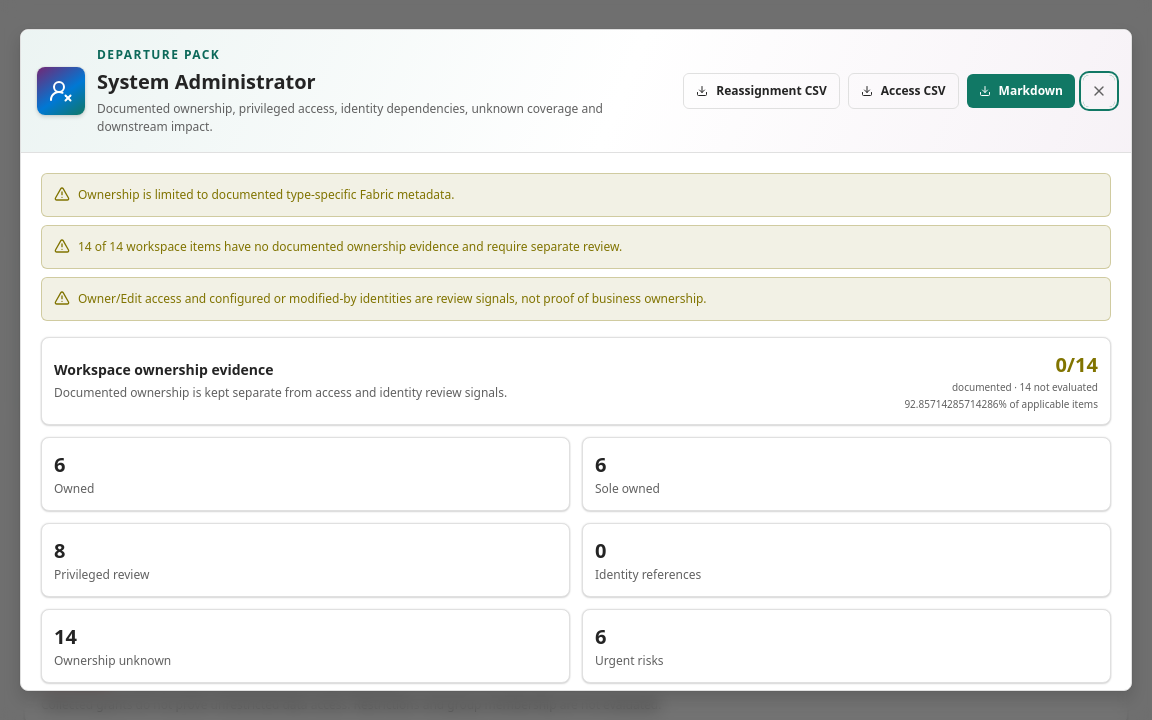
Test case: responsive Access evidence inspector › does not compete with the existing principal departure dialog on a deep link
Click the button named "Close departure pack".
click(1099, 91)  # box [1083,75,1115,107]
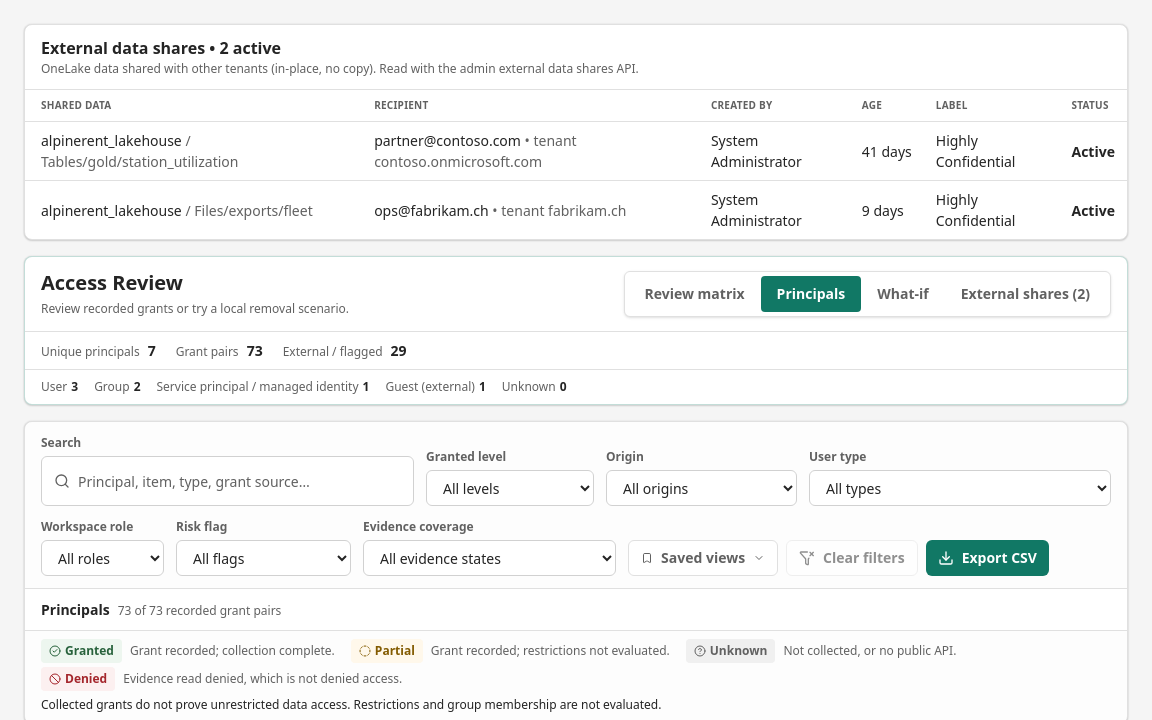
Expected: the dialog is gone
